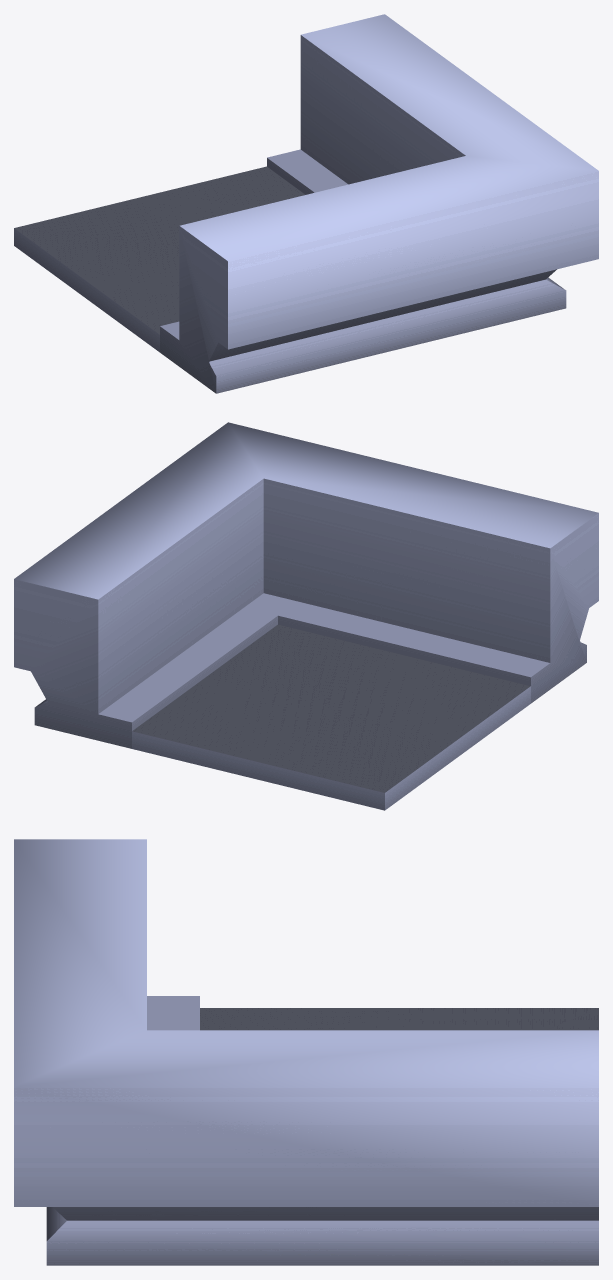
3 renders of one model, top to bottom at view 1: azimuth 30°, elevation 25°; view 2: azimuth 150°, elevation 25°; view 3: azimuth 270°, elevation 25°, orthographic. The views are drawn at different scales.
Visible parts, largest first — view 1: roof-flat-corner; view 2: roof-flat-corner; view 3: roof-flat-corner.
Part boxes in pixels (<box>): roof-flat-corner: <box>14,14,598,393</box>; roof-flat-corner: <box>14,422,598,810</box>; roof-flat-corner: <box>14,839,598,1265</box>.
Size of the model in its own units: 2.2 by 0.8 by 2.2.
1 material, 1 textured.
